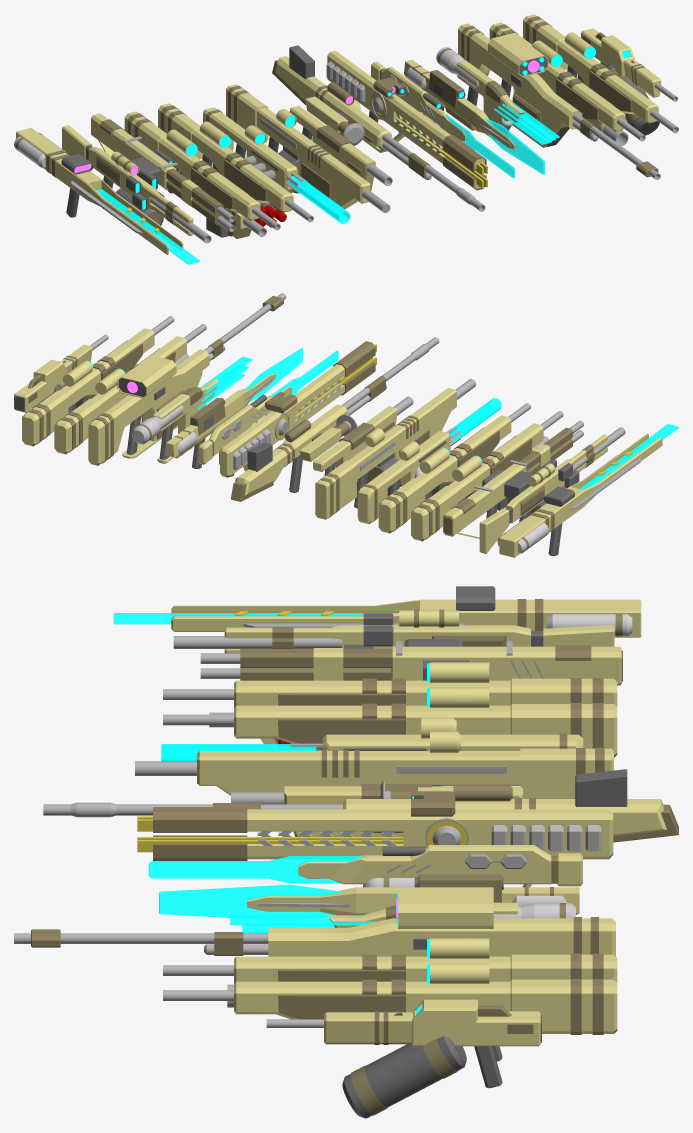
Rendered from MainDefaultWeapons.fbx.
3 views of the same model, one above another, from view 1: azimuth 30°, elevation 25°; view 2: azimuth 150°, elevation 25°; view 3: azimuth 270°, elevation 25° (orthographic). The views are drawn at different scales.
Parts seen in each view (by area): view 1: pCube87, pCube32, pCube12, pCube136, pCube1, pCube135, pCube132, pCube134, pCube54, pCube124, pCube97, pCube118 (+29 smaller); view 2: pCube87, pCube12, pCube32, pCube136, pCube1, pCube135, pCube132, pCube134, pCube97, pCube124, pCube54, pCube118 (+26 smaller); view 3: pCube32, pCube87, pCube1, pCube136, pCube12, pCube134, pCube135, pCube132, pCube45, pCube118, pCylinder4, pCube124 (+33 smaller).
Part boxes in pixels (bbox=[...]): pCube87: bbox=[226, 84, 370, 209]; pCube32: bbox=[327, 50, 486, 190]; pCube12: bbox=[458, 23, 582, 147]; pCube136: bbox=[158, 103, 293, 212]; pCube1: bbox=[523, 14, 658, 123]; pCube135: bbox=[124, 111, 260, 220]; pCube132: bbox=[16, 128, 183, 254]; pCube134: bbox=[489, 22, 625, 131]; pCube54: bbox=[275, 56, 391, 149]; pCube124: bbox=[62, 125, 193, 235]; pCube97: bbox=[203, 107, 297, 193]; pCube118: bbox=[91, 113, 176, 190]; pCube87: bbox=[315, 388, 456, 519]; pCube12: bbox=[88, 349, 209, 465]; pCube32: bbox=[220, 341, 375, 477]; pCube136: bbox=[378, 415, 511, 533]; pCube1: bbox=[22, 328, 154, 446]; pCube135: bbox=[411, 423, 543, 541]; pCube132: bbox=[499, 433, 662, 557]; pCube134: bbox=[54, 336, 186, 454]; pCube97: bbox=[357, 430, 450, 524]; pCube124: bbox=[479, 434, 607, 553]; pCube54: bbox=[235, 404, 347, 495]; pCube118: bbox=[443, 463, 526, 536]; pCube32: bbox=[153, 807, 613, 860]; pCube87: bbox=[197, 748, 613, 798]; pCube1: bbox=[234, 979, 617, 1034]; pCube136: bbox=[234, 703, 617, 757]; pCube12: bbox=[268, 917, 615, 956]; pCube134: bbox=[234, 953, 617, 983]; pCube135: bbox=[234, 678, 617, 707]; pCube132: bbox=[171, 599, 641, 637]; pCube45: bbox=[298, 845, 582, 886]; pCube118: bbox=[391, 645, 622, 685]; pCylinder4: bbox=[342, 1036, 466, 1118]; pCube124: bbox=[224, 625, 614, 653].
Bounding box in the file's own units: 33.68 × 5.41 × 22.41.
